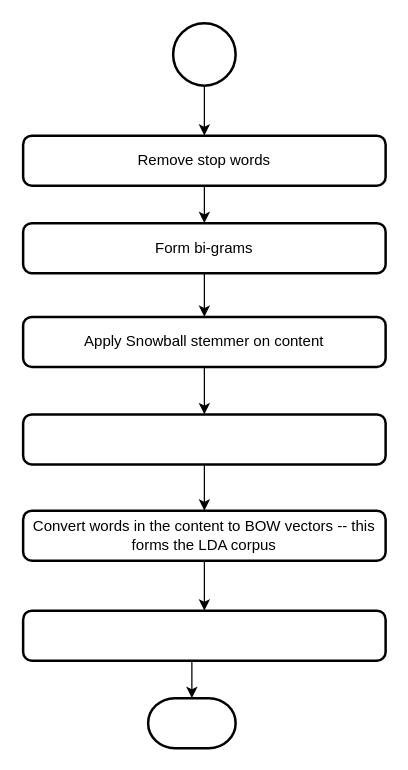
This 408x770 diagram has some shape labels left out. Each missing label, with the centre of its shape:
"Create dictionary containing frequency of each word in the whole training set" belongs at [203,438].
"Web Interface: choose valid recommendations for each concept/pass cont" belongs at [203,635].
